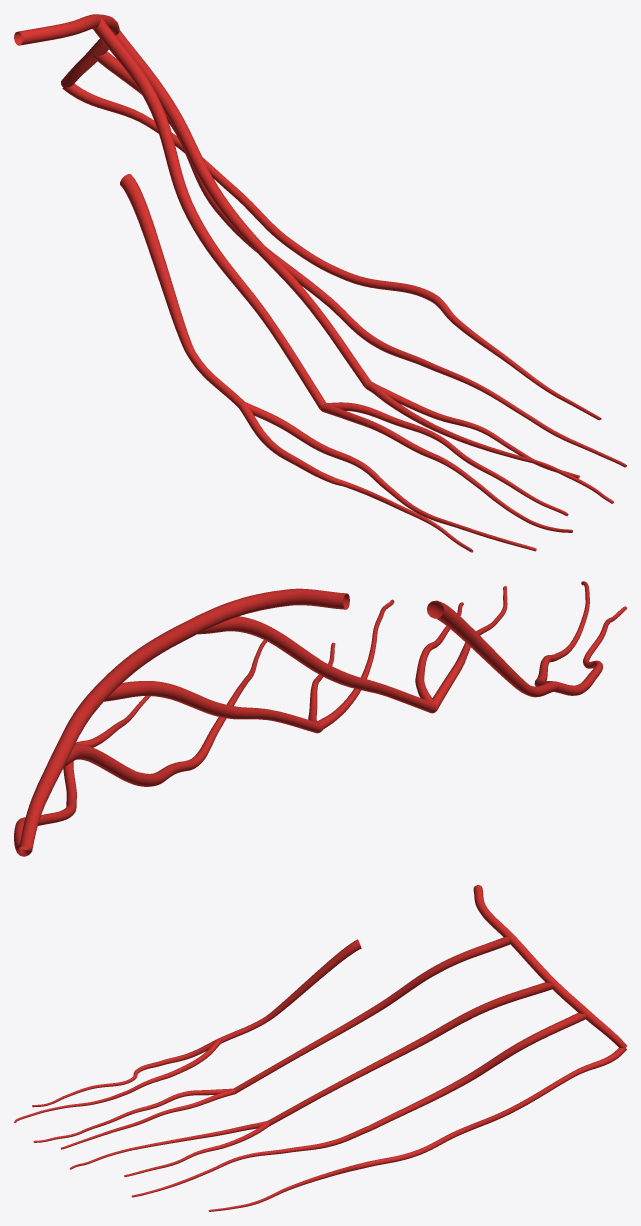
File: circulatorio-arcuate-artery-l.glb
3 views of the same model, one above another, from view 1: azimuth 30°, elevation 25°; view 2: azimuth 150°, elevation 25°; view 3: azimuth 270°, elevation 25° (orthographic). The views are drawn at different scales.
Parts seen in each view (by area): view 1: Dorsal digital arteries of foot.l, Dorsal metatarsal arteries.l, Arcuate artery.l; view 2: Dorsal metatarsal arteries.l, Dorsal digital arteries of foot.l, Arcuate artery.l; view 3: Dorsal digital arteries of foot.l, Dorsal metatarsal arteries.l, Arcuate artery.l.
Boxes of the visible parts, x1,y1,x2,y2 form: Dorsal digital arteries of foot.l: (62,83,626,552); Dorsal metatarsal arteries.l: (92,16,370,410); Arcuate artery.l: (14,14,119,87); Dorsal metatarsal arteries.l: (64,600,558,786); Dorsal digital arteries of foot.l: (14,581,626,856); Arcuate artery.l: (19,588,349,850); Dorsal digital arteries of foot.l: (14,1039,626,1211); Dorsal metatarsal arteries.l: (218,937,586,1130); Arcuate artery.l: (473,885,626,1048).
Bounding box in the file's own units: 0.0666 × 0.0553 × 0.1464.
